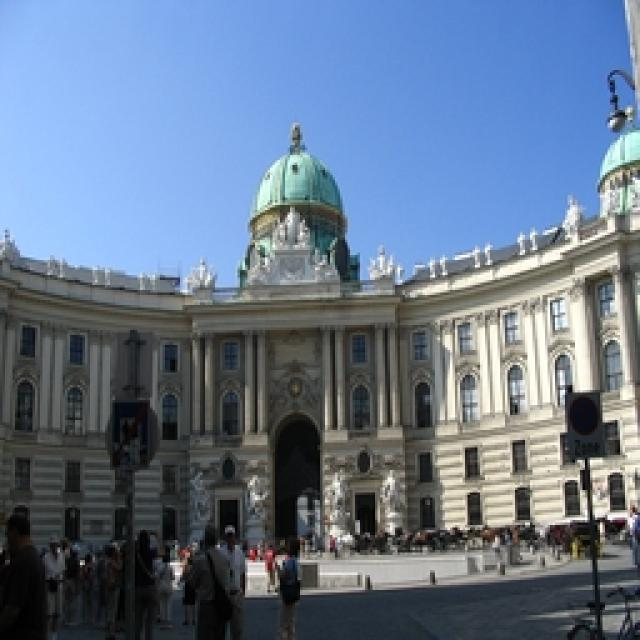Abbey: (171, 131, 447, 544)
